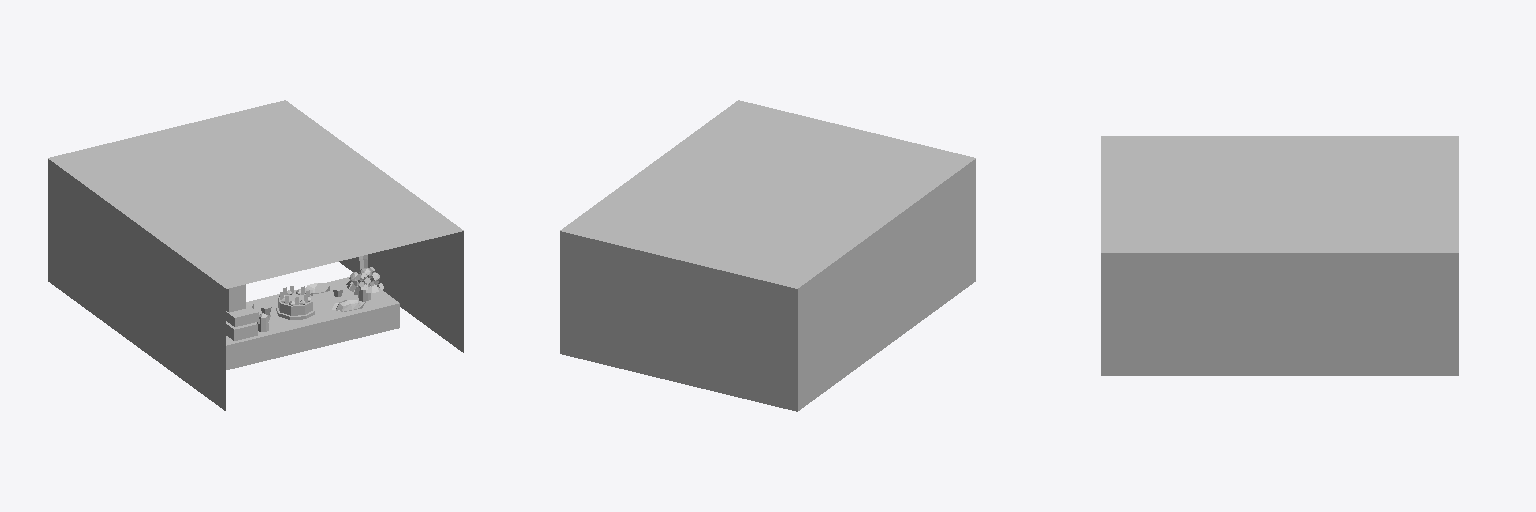
File: Birthday Area.obj
3 views of the same model, side by side, from view 1: azimuth 30°, elevation 25°; view 2: azimuth 150°, elevation 25°; view 3: azimuth 270°, elevation 25° (orthographic).
Visible parts, largest first — view 1: polygon0, polygon9, polygon10; view 2: polygon9, polygon0; view 3: polygon9, polygon0.
Part boxes in pixels (x1,y1,x2,y2): polygon0: (48,100,463,288); polygon9: (48,159,463,410); polygon10: (226,277,399,369); polygon9: (560,159,975,411); polygon0: (560,100,975,288); polygon9: (1101,253,1458,375); polygon0: (1101,136,1458,252).
Bounding box in the file's own units: 9.18 × 4.53 × 11.95.